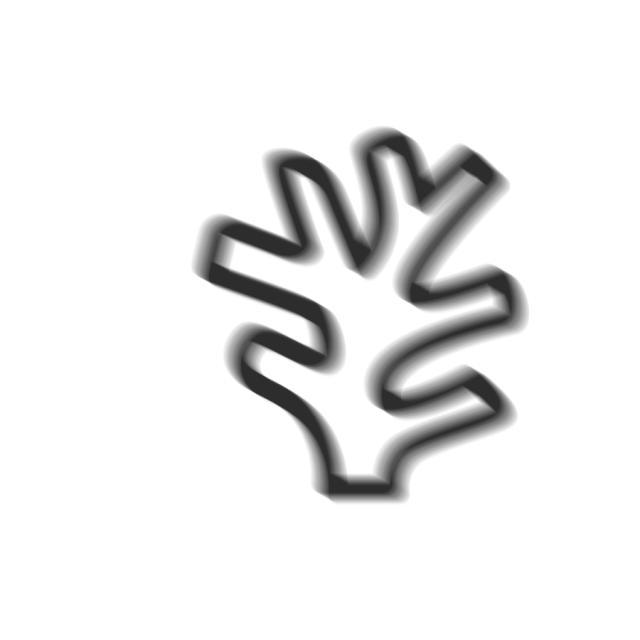coral: (186, 123, 536, 514)
